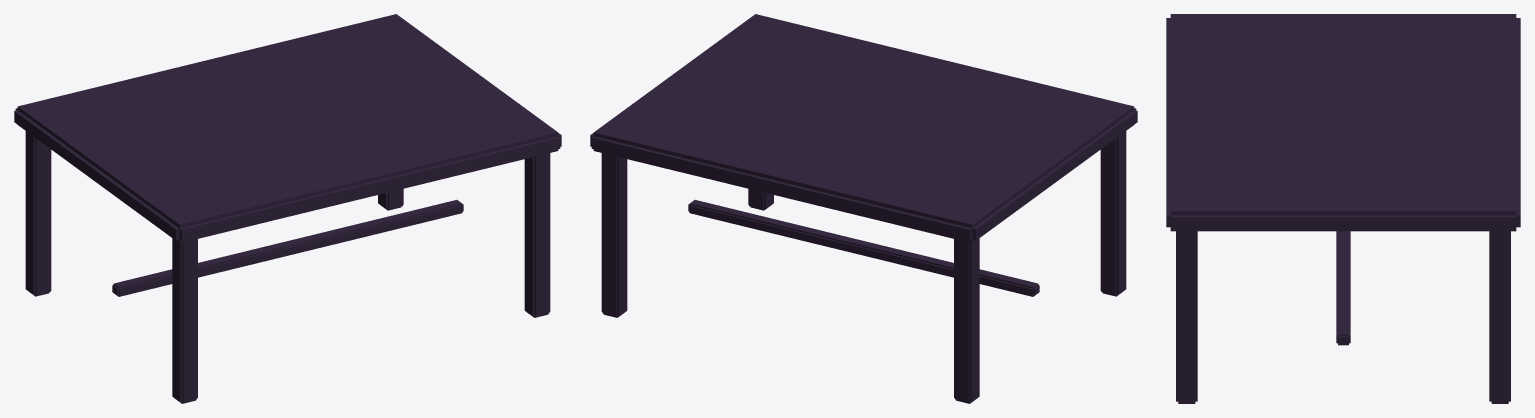
The model's file is obsidian_table_v0.glb.
3 views of the same model, side by side, from view 1: azimuth 30°, elevation 25°; view 2: azimuth 150°, elevation 25°; view 3: azimuth 270°, elevation 25° (orthographic). The views are drawn at different scales.
Parts seen in each view (by area): view 1: obsidian_table_v0; view 2: obsidian_table_v0; view 3: obsidian_table_v0.
Part boxes in pixels (x1,y1,x2,y2): obsidian_table_v0: (14, 14, 561, 403); obsidian_table_v0: (590, 14, 1137, 403); obsidian_table_v0: (1166, 14, 1520, 403).
Bounding box in the file's own units: 1.96 × 0.89 × 1.46.
